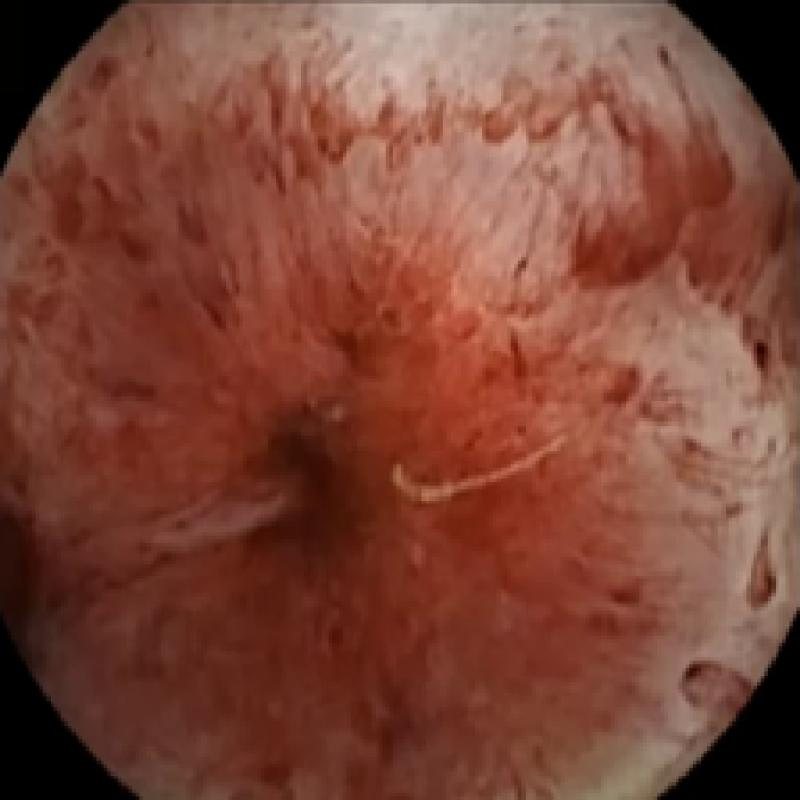bleeding: (0, 74, 646, 800), (653, 70, 800, 383), (679, 659, 751, 716), (748, 530, 780, 620)
